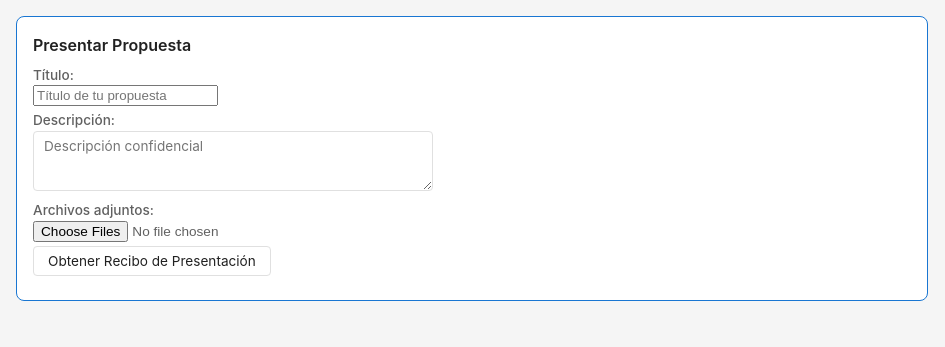
Test case: ProposalSubmit.vue › muestra error si faltan campos al enviar
The image size is (945, 347).
Click the button "Obtener Recibo de Presentación".
click(152, 261)  # box [33,246,271,276]
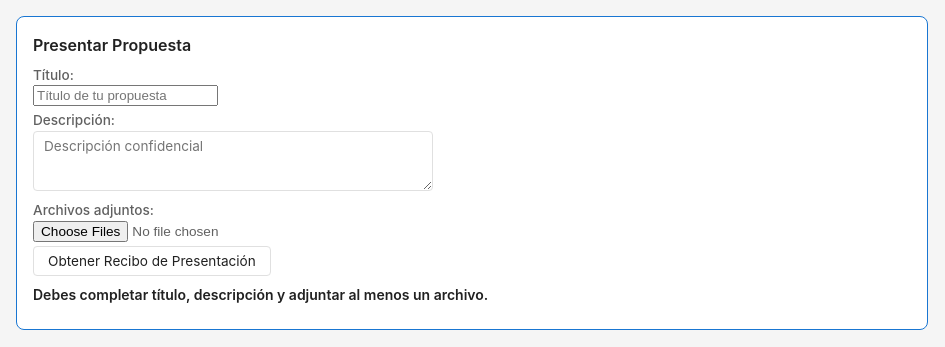
expect the text with class "feedback" shows "Debes completar título": met, box [33,286,488,303]
